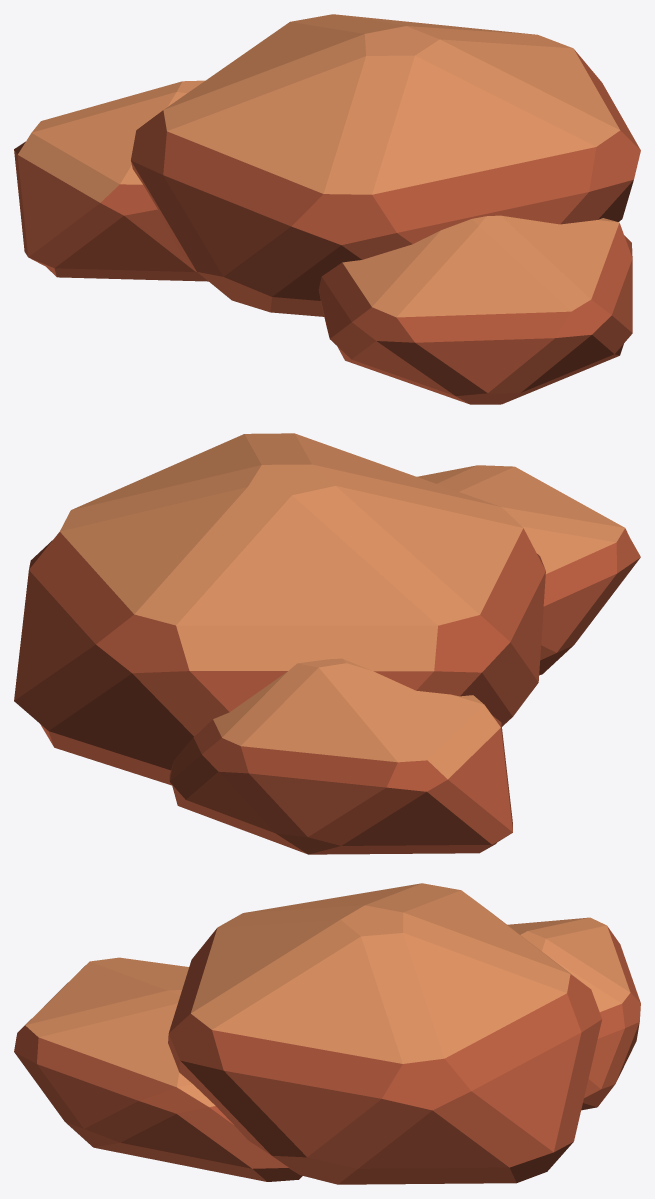
Rendered from Boulder_C.fbx.
3 renders of one model, top to bottom at view 1: azimuth 30°, elevation 25°; view 2: azimuth 150°, elevation 25°; view 3: azimuth 270°, elevation 25°, orthographic. The views are drawn at different scales.
Parts seen in each view (by area): view 1: Boulder_C; view 2: Boulder_C; view 3: Boulder_C.
Boxes of the visible parts, x1,y1,x2,y2 form: Boulder_C: (14, 14, 640, 404); Boulder_C: (14, 433, 640, 854); Boulder_C: (14, 883, 640, 1184).
Size of the model in its own units: 1.47 by 0.7486 by 1.74.
